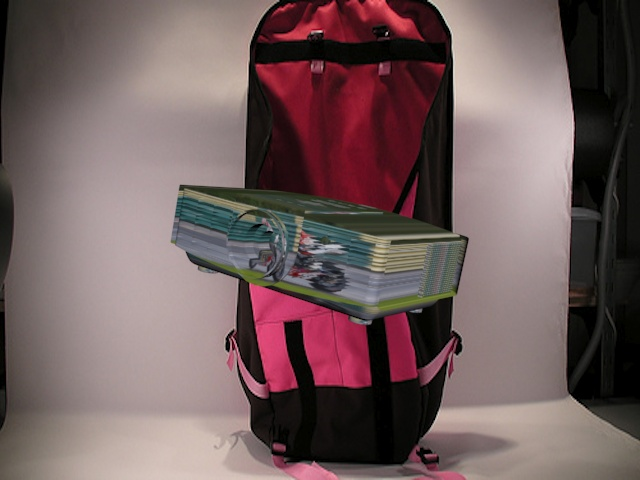projector: (160, 177, 480, 336)
